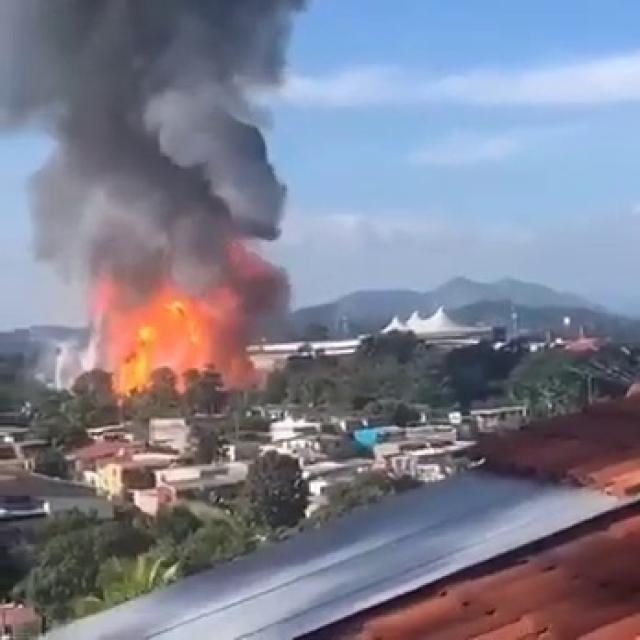Fire: (86, 279, 262, 392)
Smoke: (4, 1, 328, 272)
